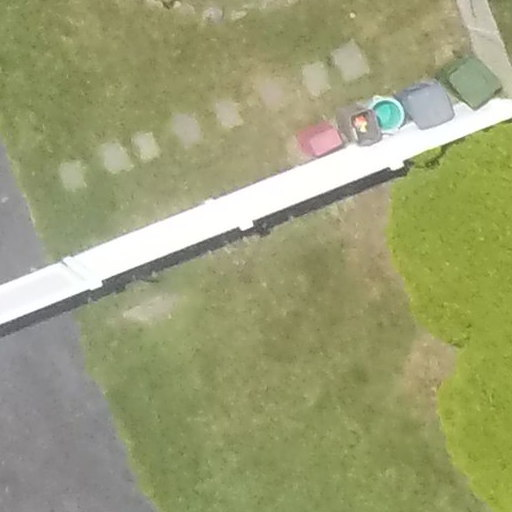container: (292, 118, 345, 167), (333, 104, 383, 152), (363, 93, 408, 138)
trash bin: (437, 44, 505, 112), (395, 76, 461, 137)
